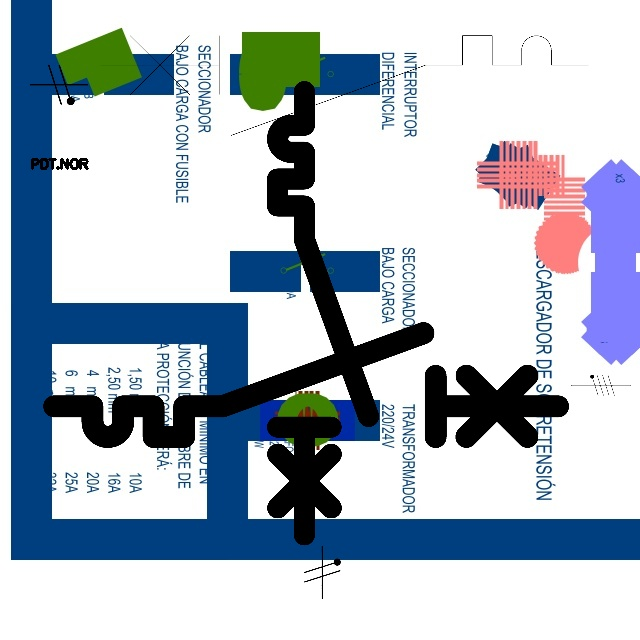interruptor_termomagnetico: (41, 320, 571, 450), (88, 23, 601, 148), (266, 80, 380, 546)
